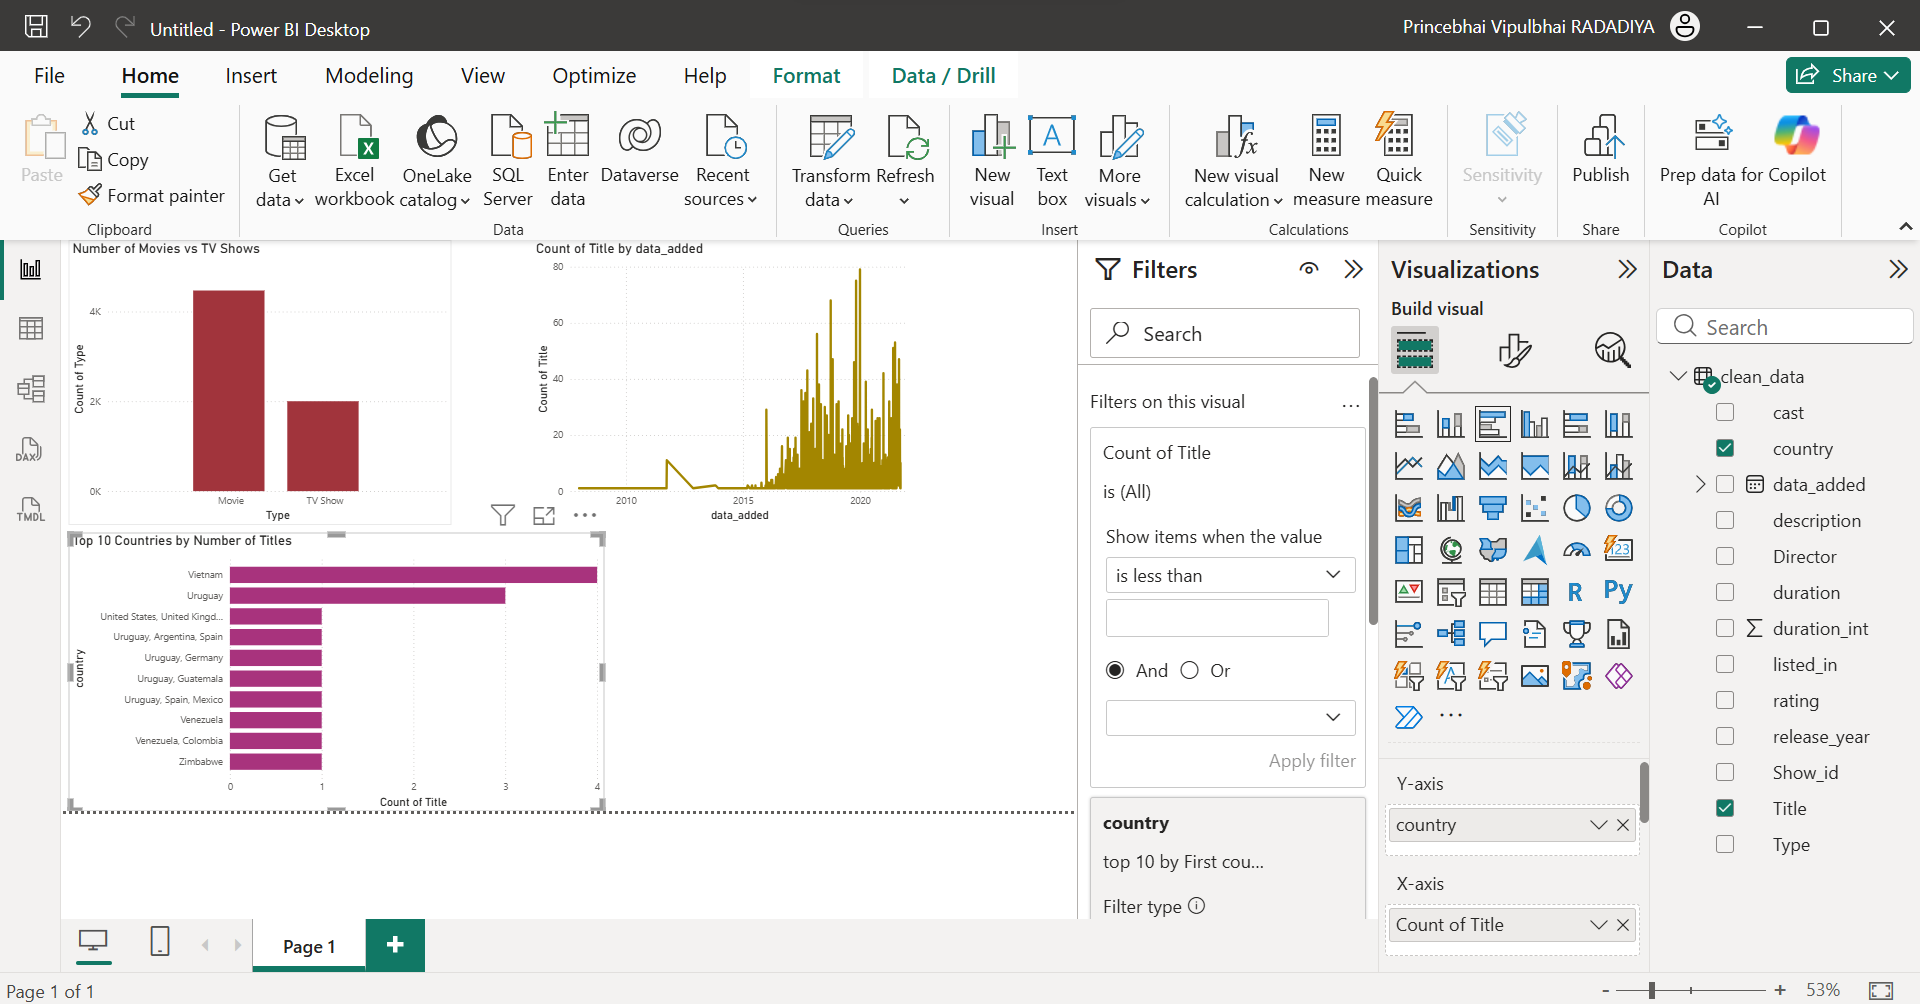

Layout of this report page (visuals, bound fields, positions):
{"tool":"powerbi","page":{"name":"Page 1","canvas":[1280,720],"ordinal":0},"visuals":[{"type":"clusteredColumnChart","title":"Number of Movies vs TV Shows","fields":{"Category":["clean_data.Type"],"Y":["CountNonNull(clean_data.Type)"]},"box":[9.4,0,481.9,359.1],"z":0},{"type":"clusteredBarChart","title":"Top 10 Countries by Number of Titles","fields":{"Y":["CountNonNull(clean_data.Title)"],"Category":["clean_data.country"]},"box":[9.4,368.5,674.7,351.5],"z":1},{"type":"lineChart","fields":{"Y":["CountNonNull(clean_data.Title)"],"Category":["clean_data.data_added"]},"box":[593,0,482,359],"z":2}]}

Visuals, with their boxes on the page's 1280x720 design canvas (x1, y1, x2, y2). These are canvas units, not pixel positions in the 1920x1004 screenshot, which may show the page scaled, cropped or inside an application window:
"Number of Movies vs TV Shows" clusteredColumnChart: [9,0,491,359]
"Top 10 Countries by Number of Titles" clusteredBarChart: [9,368,684,720]
lineChart - CountNonNull(clean_data.Title) x clean_data.data_added: [593,0,1075,359]
